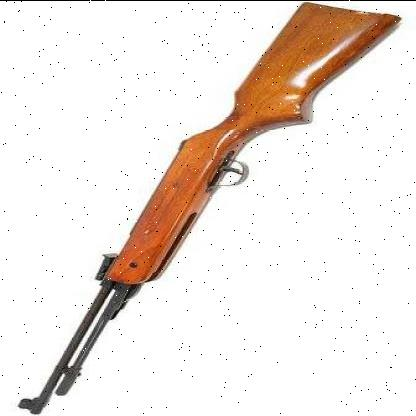rifle: (7, 8, 403, 415)
